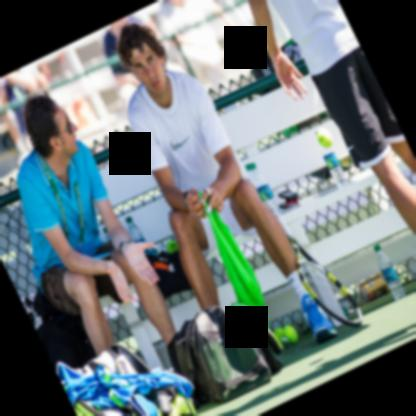handbag: (168, 304, 284, 404)
